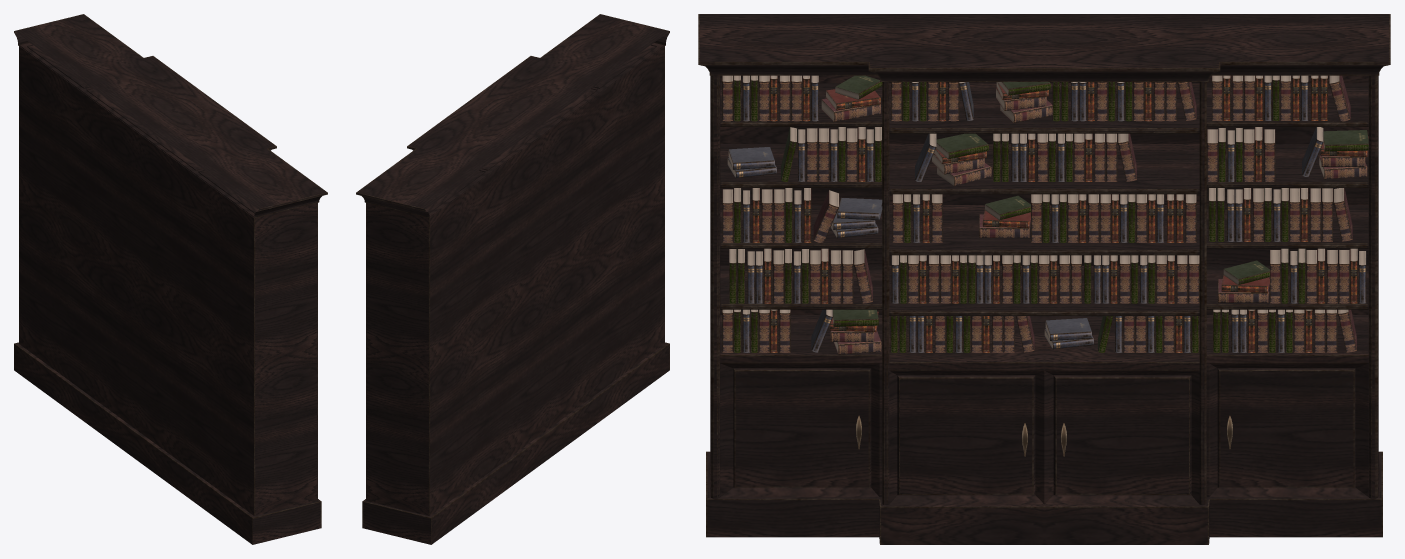
The model's file is victorian_bookshelf.glb.
3 renders of one model, left to right at view 1: azimuth 30°, elevation 25°; view 2: azimuth 150°, elevation 25°; view 3: azimuth 270°, elevation 25°, orthographic. The views are drawn at different scales.
Visible parts, largest first — view 1: pCube286; view 2: pCube286; view 3: pCube286.
Boxes of the visible parts, box(x1,y1,x2,y2) form: pCube286: box(14, 14, 327, 544); pCube286: box(356, 14, 669, 544); pCube286: box(698, 14, 1390, 544).
Size of the model in its own units: 0.5817 by 2.29 by 3.01.
1 material, 1 textured.
